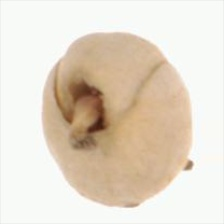L3: (54, 76, 110, 142)
L4: (41, 31, 193, 208)
